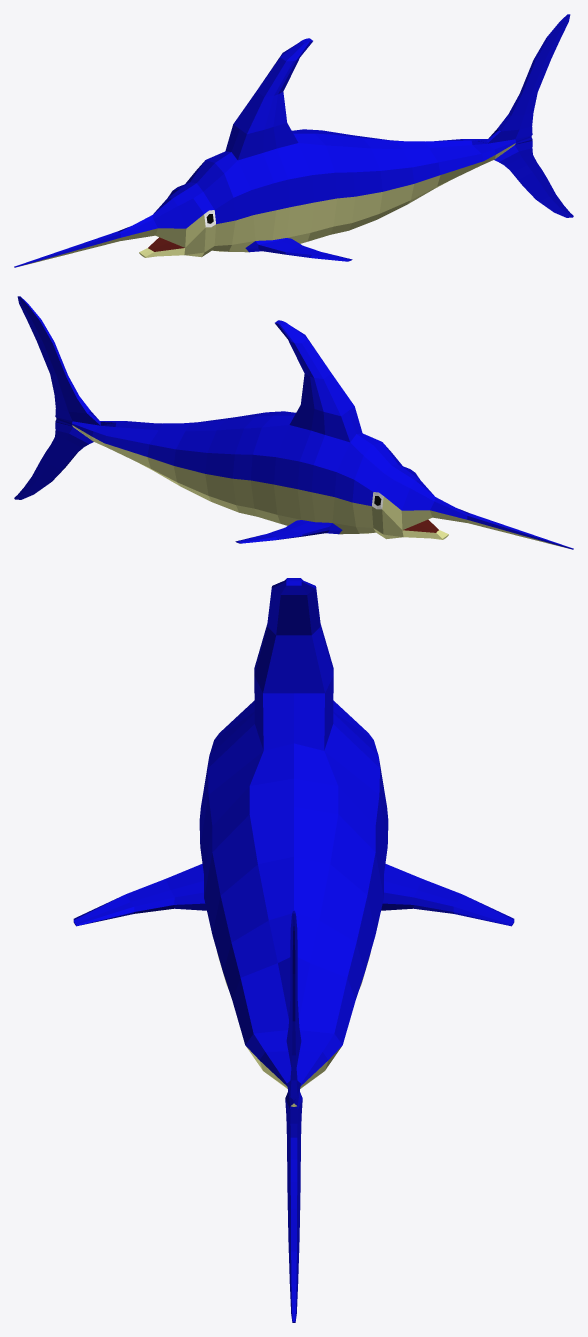
File: PezEspada.fbx
3 views of the same model, one above another, from view 1: azimuth 30°, elevation 25°; view 2: azimuth 150°, elevation 25°; view 3: azimuth 270°, elevation 25° (orthographic). The views are drawn at different scales.
Visible parts, largest first — view 1: Pez; view 2: Pez; view 3: Pez.
Boxes of the visible parts, x1,y1,x2,y2 form: Pez: (14, 14, 573, 267); Pez: (14, 296, 573, 549); Pez: (73, 578, 514, 1322).
Size of the model in its own units: 1303 by 538 by 445.
